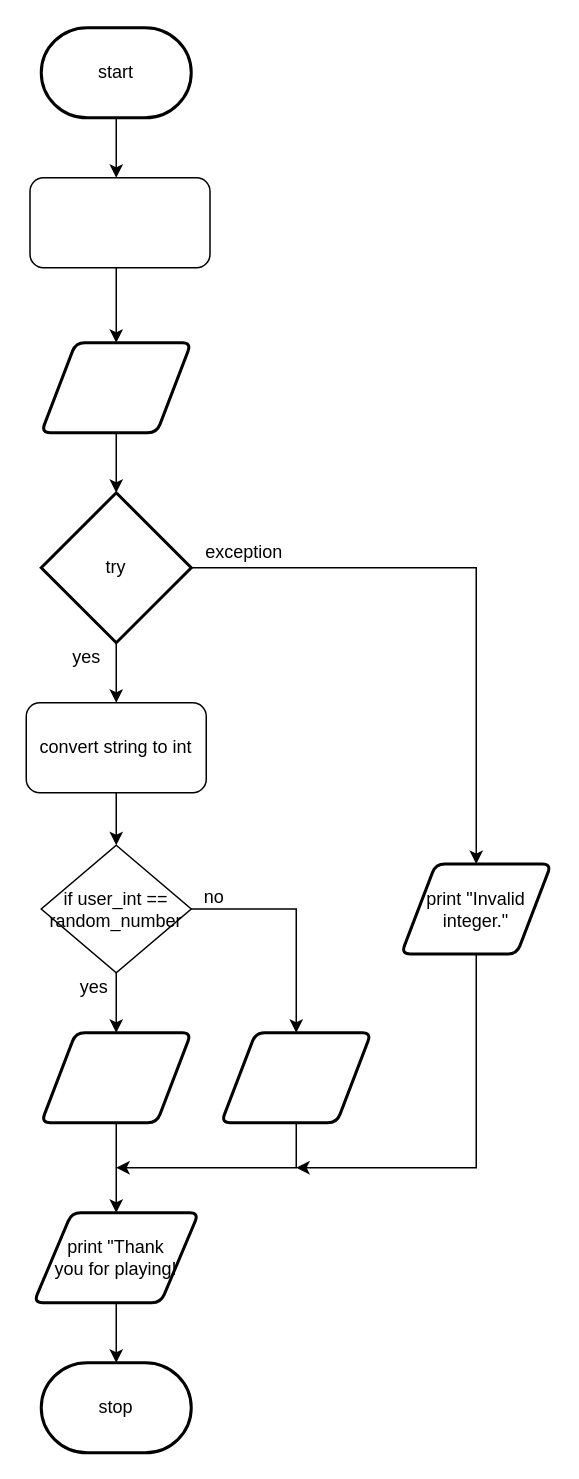
Some shapes in this 579 by 1479 pixel diagram are drawn without their labels. The centre of each missing label's shape, as x and y in pixels:
get user_integer: (115,387)
print "You guessed correctly!: (115,1077)
print "You guessed incorrectly, try again!: (295,1077)
random_integer = random.randint(0,9): (119,222)
